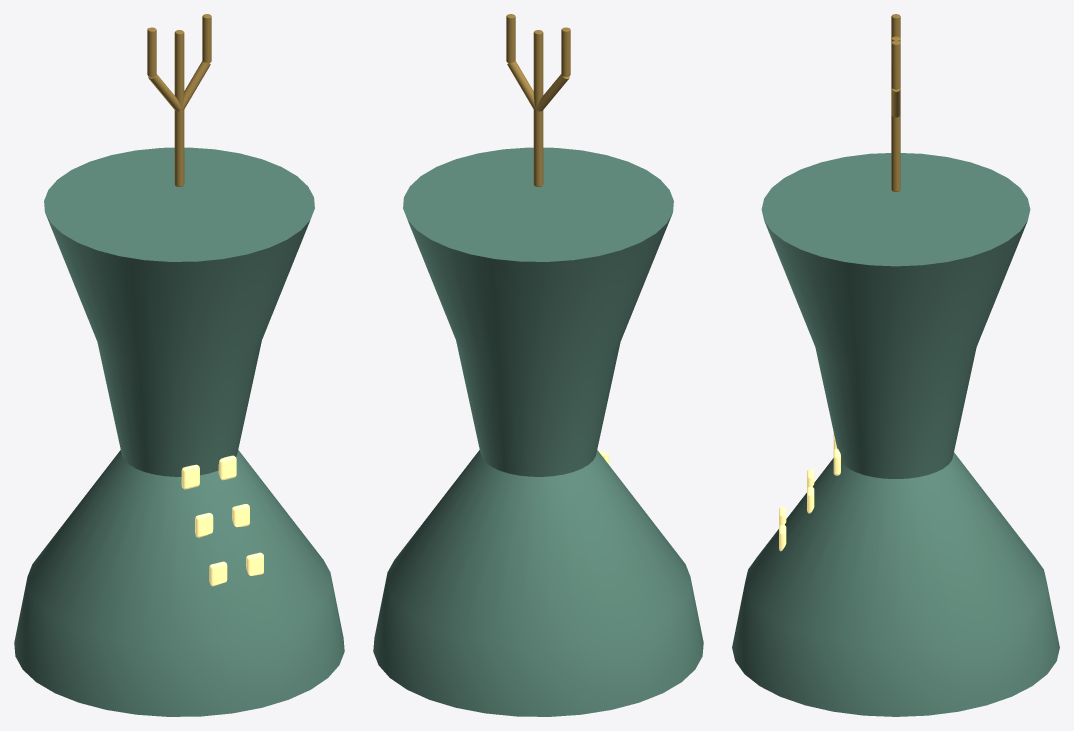
3 views of the same model, side by side, from view 1: azimuth 30°, elevation 25°; view 2: azimuth 150°, elevation 25°; view 3: azimuth 270°, elevation 25° (orthographic).
Visible parts, largest first — view 1: Flared spindle column, Aerial stem; view 2: Flared spindle column, Aerial stem; view 3: Flared spindle column, Aerial stem.
Boxes of the visible parts, bbox=[...] form: Flared spindle column: bbox=[14, 147, 344, 716]; Aerial stem: bbox=[174, 30, 184, 186]; Flared spindle column: bbox=[373, 147, 703, 716]; Aerial stem: bbox=[533, 30, 543, 186]; Flared spindle column: bbox=[732, 153, 1059, 716]; Aerial stem: bbox=[891, 36, 900, 191].
Size of the model in its own units: 1.56 by 3.25 by 1.56.
